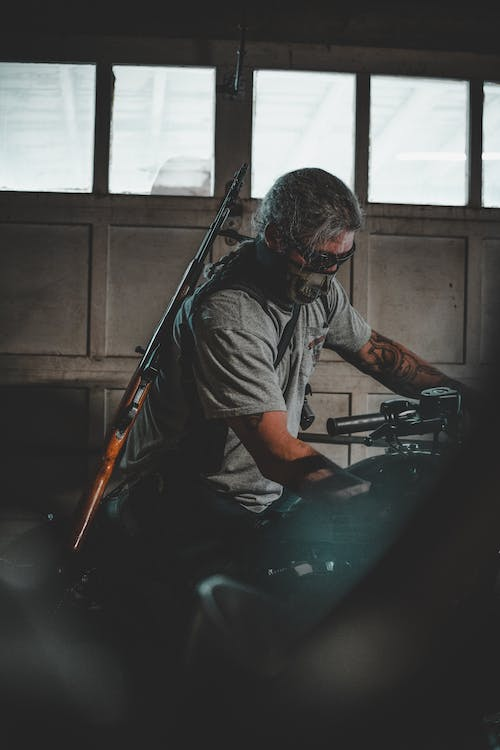gun: (64, 158, 253, 559)
